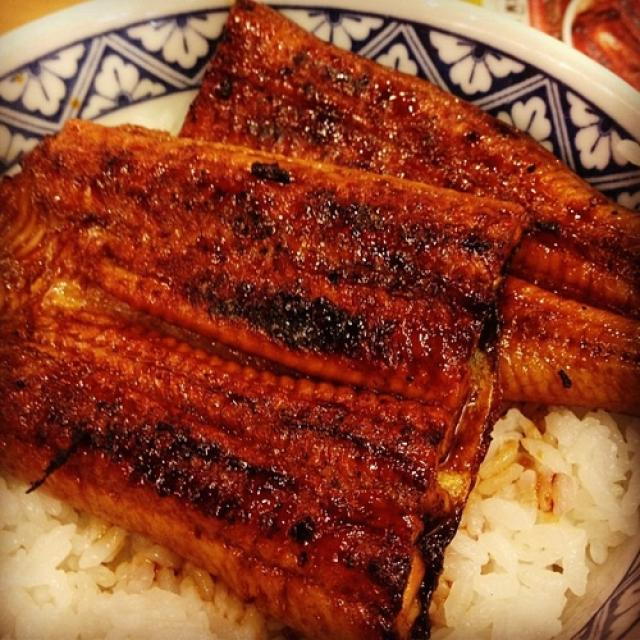熟制海鲜: (4, 2, 635, 628)
